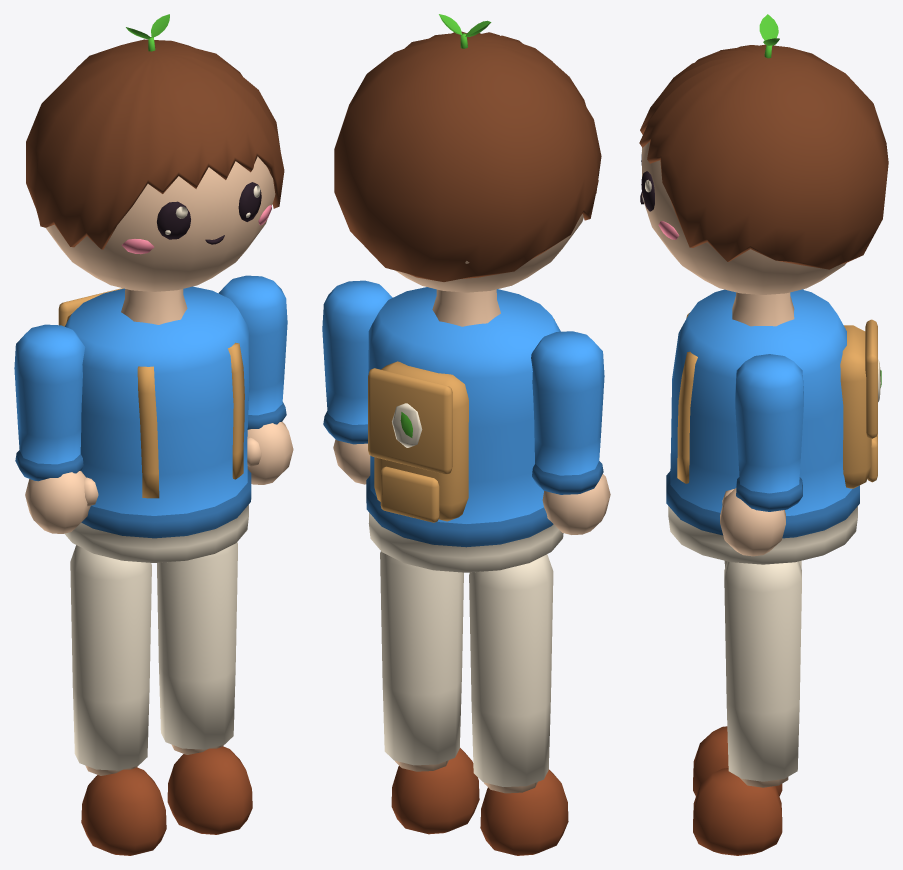
Rendered from hero-man-teen.glb.
3 views of the same model, side by side, from view 1: azimuth 30°, elevation 25°; view 2: azimuth 150°, elevation 25°; view 3: azimuth 270°, elevation 25° (orthographic). The views are drawn at different scales.
Visible parts, largest first — view 1: head, body, leg-left, leg-right, arm-left, arm-right; view 2: head, body, leg-left, leg-right, arm-left, arm-right; view 3: head, body, leg-right, arm-right, leg-left, head-leaf.
Part boxes in pixels (box(x1,y1,x2,y2)): head: box(26, 39, 284, 324); body: box(58, 286, 251, 562); leg-left: box(70, 545, 166, 855); leg-right: box(157, 542, 252, 834); arm-left: box(14, 324, 98, 533); arm-right: box(218, 275, 293, 484); head: box(334, 31, 601, 326); body: box(366, 287, 563, 572); leg-left: box(469, 554, 568, 855); leg-right: box(380, 551, 479, 834); arm-left: box(531, 331, 610, 534); arm-right: box(322, 280, 392, 484); head: box(639, 44, 888, 326); body: box(666, 289, 881, 564); leg-right: box(693, 561, 801, 855); arm-right: box(720, 354, 803, 556); leg-left: box(693, 560, 801, 796); head-leaf: box(759, 14, 779, 58).
Size of the model in its own units: 0.8715 by 2.53 by 0.7175.
